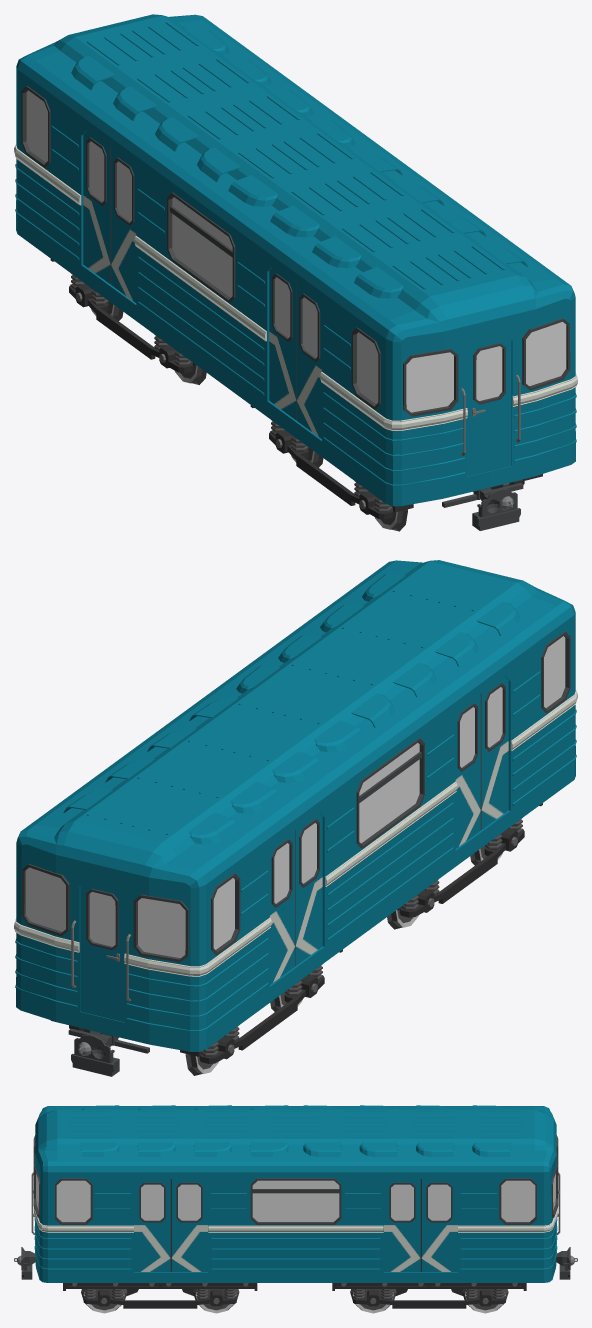
The model's file is NomernoyWagon.fbx.
The picture shows the model from 3 angles, top to bottom: view 1: azimuth 30°, elevation 25°; view 2: azimuth 150°, elevation 25°; view 3: azimuth 270°, elevation 25°; orthographic projection. The views are drawn at different scales.
Visible parts, largest first — view 1: Nomernoy, Glass, RightDoor1, RightDoor, Telega, Telega.001, GlassDoor.001, GlassDoor; view 2: Nomernoy, Glass, RightDoor, RightDoor1, Telega.001, Telega, GlassDoor, GlassDoor.001; view 3: Nomernoy, Glass, LeftDoor1, LeftDoor, Telega.001, Telega, GlassDoor.002, Glass.001, kaso2, kaso2.001, Kaso1.001, Kaso1.
Boxes of the visible parts, x1,y1,x2,y2 form: Nomernoy: (14,14,577,530); Glass: (26,90,566,412); RightDoor1: (83,131,296,420); RightDoor: (111,148,321,438); Telega: (250,405,542,519); Telega.001: (50,259,196,373); GlassDoor.001: (89,141,290,337); GlassDoor: (117,161,317,357); Nomernoy: (14,560,577,1076); Glass: (25,636,565,958); RightDoor: (295,676,508,966); RightDoor1: (270,694,480,984); Telega.001: (51,949,342,1063); Telega: (397,803,542,917); GlassDoor: (301,687,502,883); GlassDoor.001: (274,707,474,903); Nomernoy: (14,1105,577,1282); Glass: (36,1173,555,1221); LeftDoor1: (171,1179,457,1271); LeftDoor: (134,1179,420,1271); Telega.001: (332,1283,526,1308); Telega: (63,1283,257,1308); GlassDoor.002: (178,1184,450,1220); Glass.001: (141,1184,413,1220); kaso2: (193,1289,239,1313); kaso2.001: (462,1289,508,1313); Kaso1.001: (350,1289,396,1313); Kaso1: (81,1289,127,1313).
Size of the model in its own units: 2.98 by 3.82 by 11.23.
